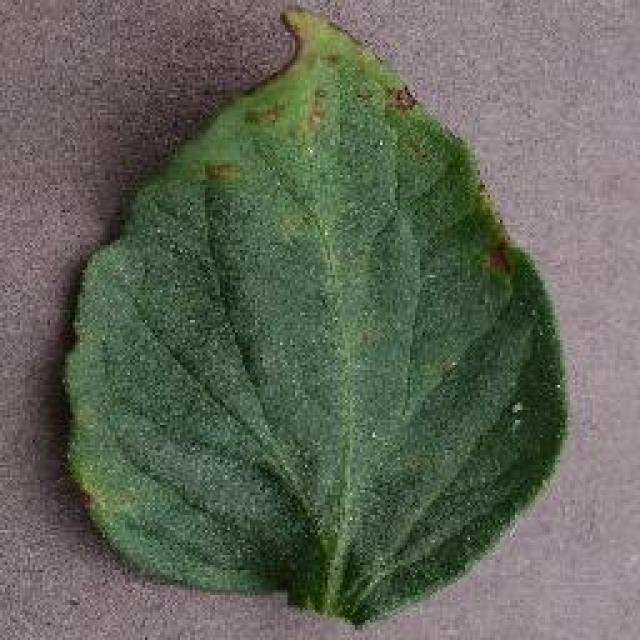Tomato bacterial spot leaf: (60, 0, 571, 623)
